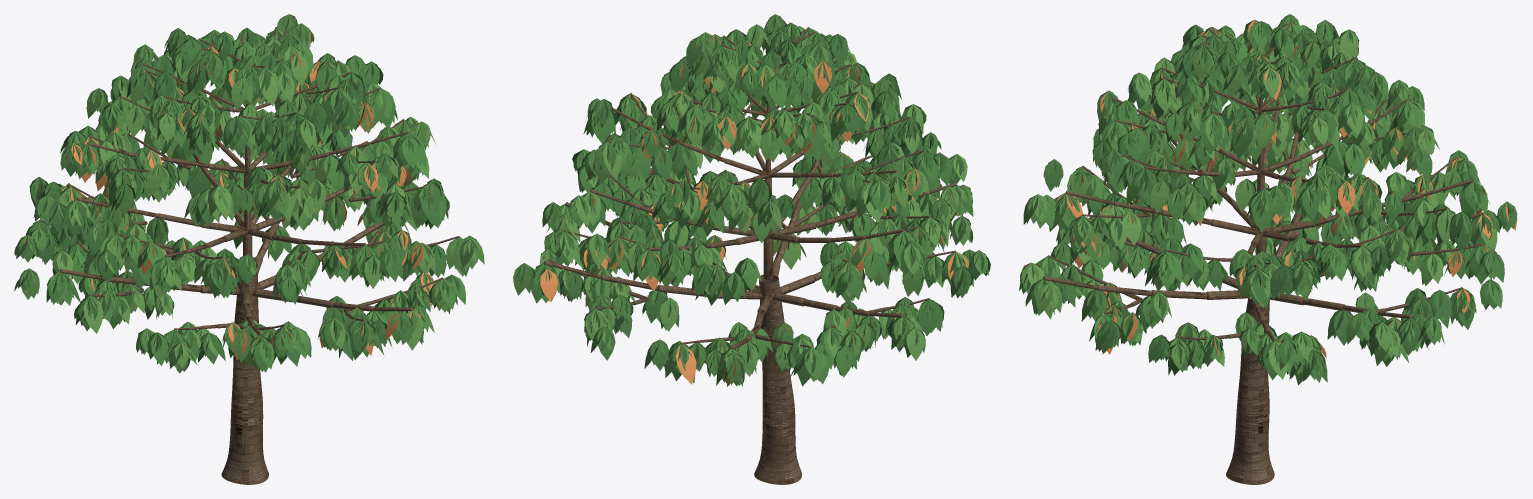
Rendered from tree_amendoeira_2.glb.
The picture shows the model from 3 angles, left to right: view 1: azimuth 30°, elevation 25°; view 2: azimuth 150°, elevation 25°; view 3: azimuth 270°, elevation 25°; orthographic projection. The views are drawn at different scales.
Visible parts, largest first — view 1: tree_amendoeira_2; view 2: tree_amendoeira_2; view 3: tree_amendoeira_2.
Boxes of the visible parts, x1,y1,x2,y2 form: tree_amendoeira_2: (14,14,484,484); tree_amendoeira_2: (513,14,990,484); tree_amendoeira_2: (1019,14,1517,484).
Bounding box in the file's own units: 5.93 × 6.09 × 6.22.
5 materials, 1 textured.
